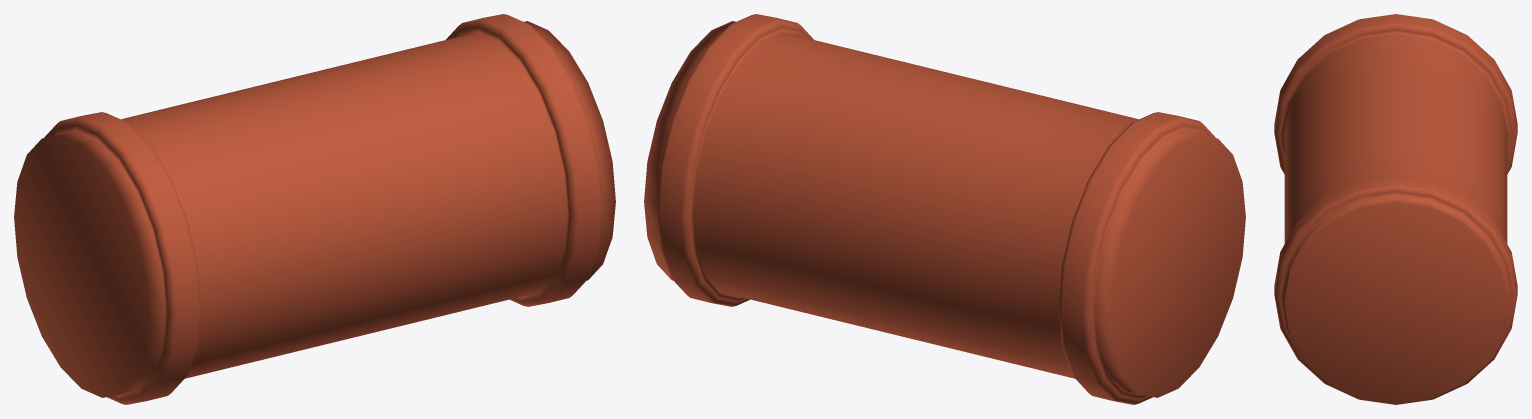
File: SM_Tuyau_A.fbx
3 views of the same model, side by side, from view 1: azimuth 30°, elevation 25°; view 2: azimuth 150°, elevation 25°; view 3: azimuth 270°, elevation 25° (orthographic). The views are drawn at different scales.
Parts seen in each view (by area): view 1: Tuyau_A; view 2: Tuyau_A; view 3: Tuyau_A.
Part boxes in pixels (x1,y1,x2,y2): Tuyau_A: (14,14,615,404); Tuyau_A: (644,14,1245,404); Tuyau_A: (1274,14,1517,404).
Size of the model in its own units: 25 by 13.69 by 13.69.
